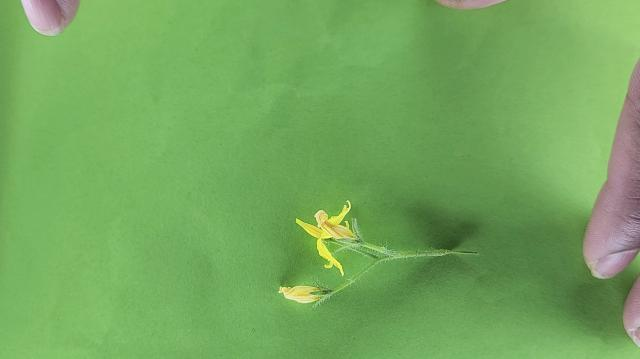Anthesis: (296, 202, 359, 278), (277, 280, 334, 304)
